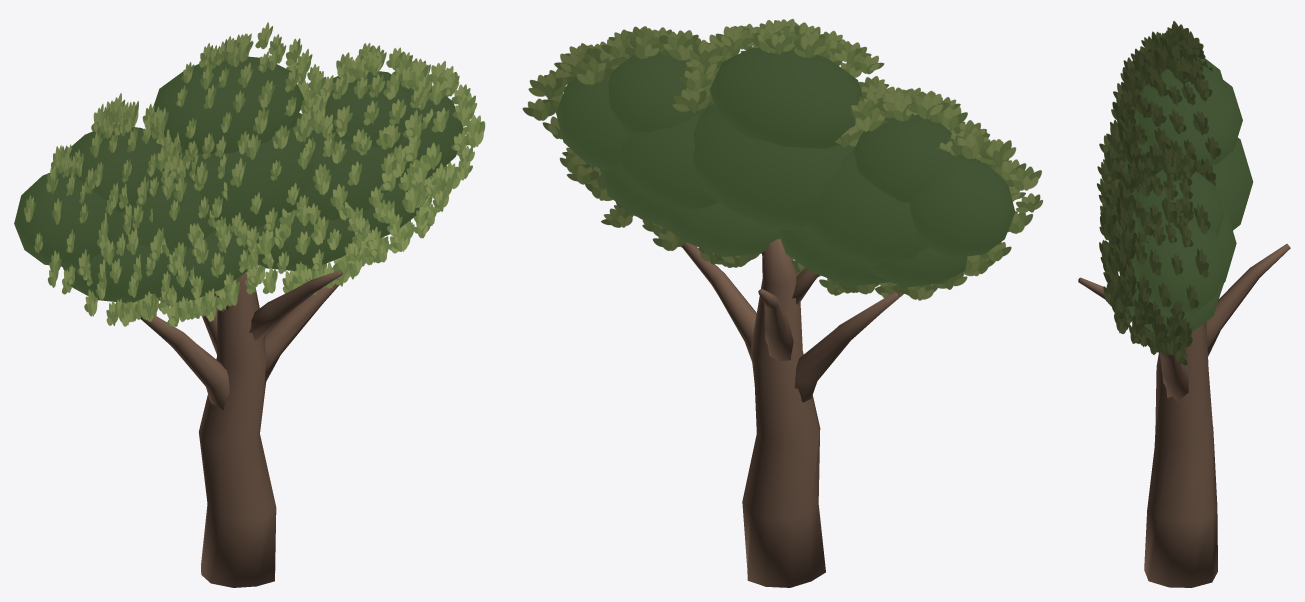
File: ambute-painted-tree.glb
The picture shows the model from 3 angles, left to right: view 1: azimuth 30°, elevation 25°; view 2: azimuth 150°, elevation 25°; view 3: azimuth 270°, elevation 25°; orthographic projection. The views are drawn at different scales.
Parts seen in each view (by area): view 1: Canopy_Painted_Leaf_Cards, Tree_Trunk, Canopy_Core_Top, Canopy_Core_Center, Canopy_Core_OuterLeft, Canopy_Core_CrownLeft, Canopy_Core_Right, Canopy_Core_Left, Canopy_Core_CrownRight, Canopy_Core_BranchLeft, Canopy_Core_LowerRight, Canopy_Core_LowerLeft (+2 smaller); view 2: Canopy_Painted_Leaf_Cards, Tree_Trunk, Canopy_Core_Top, Canopy_Core_Center, Canopy_Core_Left, Canopy_Core_OuterLeft, Canopy_Core_CrownLeft, Canopy_Core_Right, Canopy_Core_CrownRight, Canopy_Core_OuterRight, Canopy_Core_LowerRight, Canopy_Core_LowerLeft (+2 smaller); view 3: Canopy_Painted_Leaf_Cards, Tree_Trunk, Canopy_Core_Top, Canopy_Core_OuterRight, Canopy_Core_Center, Canopy_Core_CrownRight, Canopy_Core_BranchRight, Canopy_Core_Right.
Boxes of the visible parts, left/top/right/bottom form: Canopy_Painted_Leaf_Cards: left=23, top=22, right=485, bottom=327; Tree_Trunk: left=140, top=270, right=342, bottom=587; Canopy_Core_Top: left=154, top=56, right=303, bottom=153; Canopy_Core_Center: left=179, top=113, right=316, bottom=231; Canopy_Core_OuterLeft: left=14, top=171, right=120, bottom=268; Canopy_Core_CrownLeft: left=69, top=127, right=164, bottom=212; Canopy_Core_Right: left=295, top=128, right=403, bottom=220; Canopy_Core_Left: left=113, top=169, right=217, bottom=250; Canopy_Core_CrownRight: left=324, top=71, right=412, bottom=148; Canopy_Core_BranchLeft: left=62, top=243, right=174, bottom=303; Canopy_Core_LowerRight: left=256, top=215, right=355, bottom=270; Canopy_Core_LowerLeft: left=155, top=229, right=250, bottom=302; Canopy_Painted_Leaf_Cards: left=522, top=19, right=1042, bottom=300; Tree_Trunk: left=681, top=238, right=899, bottom=587; Canopy_Core_Top: left=709, top=47, right=861, bottom=148; Canopy_Core_Center: left=693, top=104, right=854, bottom=230; Canopy_Core_Left: left=803, top=151, right=927, bottom=266; Canopy_Core_OuterLeft: left=909, top=156, right=1015, bottom=258; Canopy_Core_CrownLeft: left=853, top=114, right=962, bottom=202; Canopy_Core_Right: left=619, top=114, right=718, bottom=209; Canopy_Core_CrownRight: left=608, top=51, right=713, bottom=135; Canopy_Core_OuterRight: left=556, top=73, right=628, bottom=170; Canopy_Core_LowerRight: left=660, top=202, right=780, bottom=256; Canopy_Core_LowerLeft: left=779, top=228, right=889, bottom=286; Canopy_Painted_Leaf_Cards: left=1097, top=21, right=1220, bottom=365; Tree_Trunk: left=1078, top=244, right=1290, bottom=587; Canopy_Core_Top: left=1134, top=66, right=1242, bottom=164; Canopy_Core_OuterRight: left=1132, top=221, right=1224, bottom=315; Canopy_Core_Center: left=1121, top=137, right=1253, bottom=230; Canopy_Core_CrownRight: left=1132, top=169, right=1223, bottom=236; Canopy_Core_BranchRight: left=1128, top=273, right=1223, bottom=335; Canopy_Core_Right: left=1119, top=199, right=1236, bottom=283.
Bounding box in the file's own units: 6.86 × 7.39 × 2.71.
3 materials, 1 textured.
